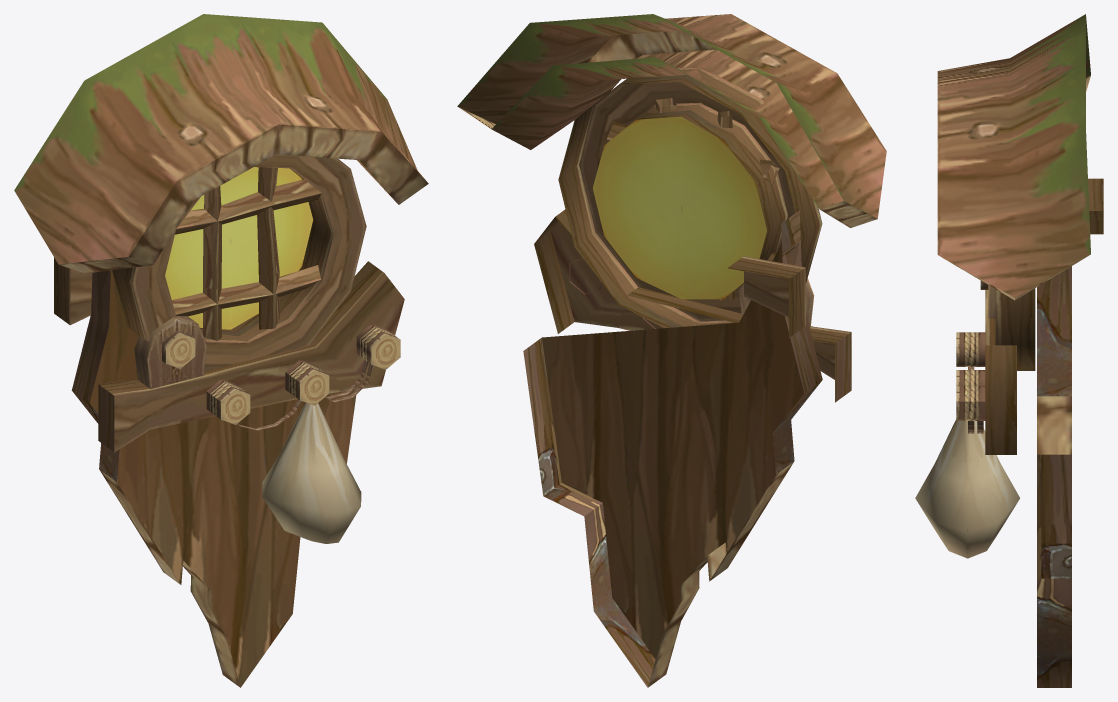
Rendered from Map_08_wooden14.FBX.
The picture shows the model from 3 angles, left to right: view 1: azimuth 30°, elevation 25°; view 2: azimuth 150°, elevation 25°; view 3: azimuth 270°, elevation 25°; orthographic projection. The views are drawn at different scales.
Parts seen in each view (by area): view 1: Map_08_wooden14; view 2: Map_08_wooden14; view 3: Map_08_wooden14.
Boxes of the visible parts, x1,y1,x2,y2 form: Map_08_wooden14: [14, 14, 428, 687]; Map_08_wooden14: [457, 14, 886, 687]; Map_08_wooden14: [915, 14, 1103, 687].
Size of the model in its own units: 26.61 by 44.89 by 11.84.
